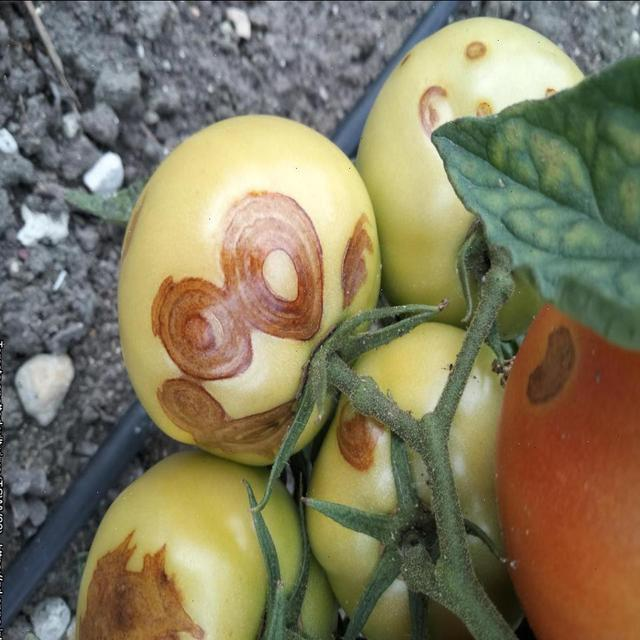Spotted wilt Virus Fruit: (127, 117, 320, 368)
